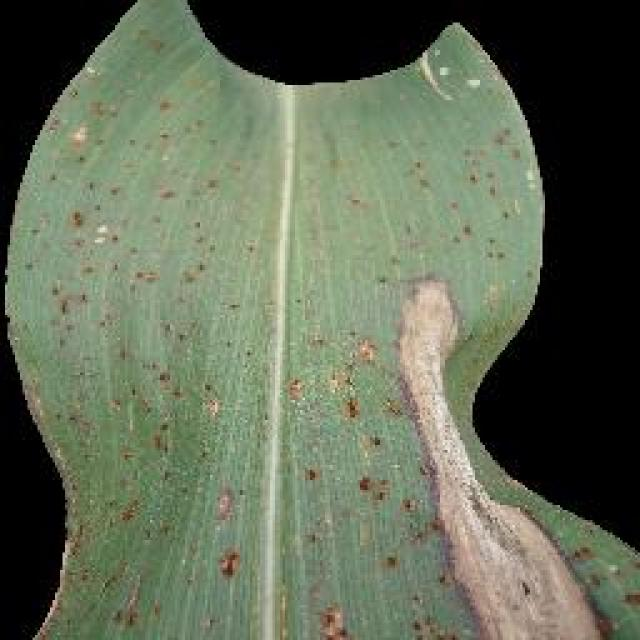Corn Common Rust: (105, 197, 598, 603)
